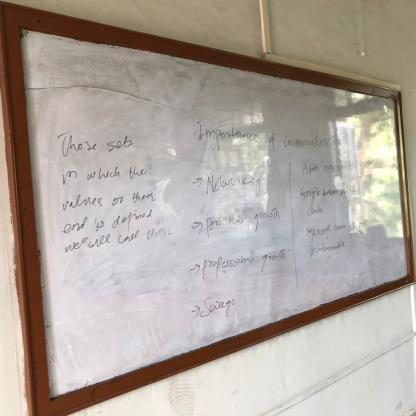Handwritten text: (190, 117, 335, 156), (53, 204, 162, 242), (48, 126, 136, 165), (199, 246, 291, 283), (53, 158, 153, 190), (53, 185, 161, 212), (203, 204, 286, 239), (206, 169, 265, 200), (304, 235, 353, 263), (198, 293, 239, 326), (296, 182, 361, 202), (304, 221, 376, 238), (300, 158, 357, 178), (304, 203, 326, 216)
